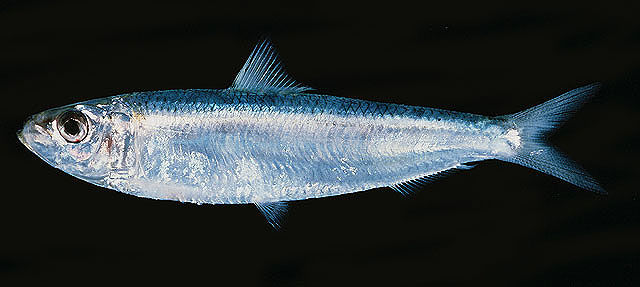fish: (15, 39, 602, 232)
